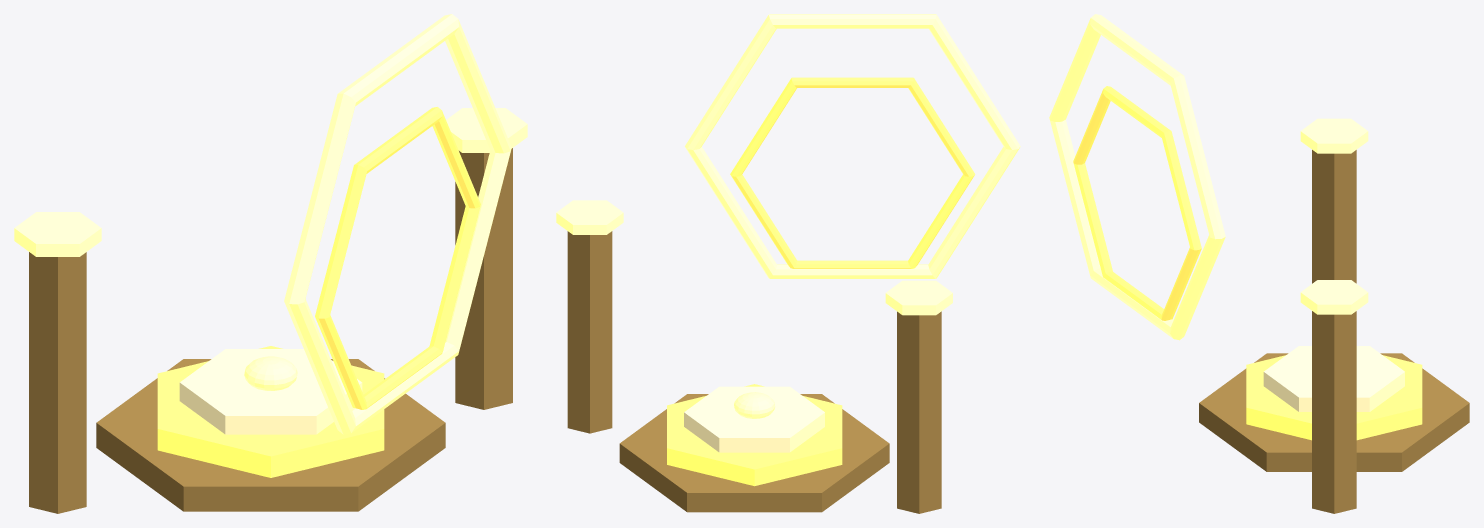
Rendered from ceremony_props.glb.
The picture shows the model from 3 angles, left to right: view 1: azimuth 30°, elevation 25°; view 2: azimuth 150°, elevation 25°; view 3: azimuth 270°, elevation 25°; orthographic projection. The views are drawn at different scales.
Parts seen in each view (by area): view 1: Dais_Tier0, Arch_Outer, Pillar_L, Dais_Tier1, Arch_Inner, Pillar_R, Dais_Tier2, Pillar_L_Cap, Pillar_R_Cap, Honey_Drop; view 2: Arch_Outer, Dais_Tier0, Pillar_R, Pillar_L, Dais_Tier1, Arch_Inner, Dais_Tier2, Pillar_L_Cap, Pillar_R_Cap, Honey_Drop; view 3: Arch_Outer, Dais_Tier0, Pillar_R, Arch_Inner, Pillar_L, Dais_Tier1, Dais_Tier2, Pillar_L_Cap, Pillar_R_Cap.
Part boxes in pixels (box(x1,y1,x2,y2)): Dais_Tier0: box(96, 359, 445, 511); Arch_Outer: box(284, 14, 511, 434); Pillar_L: box(29, 252, 86, 513); Dais_Tier1: box(157, 346, 384, 477); Arch_Inner: box(315, 107, 480, 409); Pillar_R: box(455, 148, 512, 409); Dais_Tier2: box(179, 349, 362, 434); Pillar_L_Cap: box(14, 212, 101, 256); Pillar_R_Cap: box(446, 108, 527, 152); Honey_Drop: box(244, 356, 297, 390); Arch_Outer: box(685, 14, 1020, 278); Dais_Tier0: box(619, 394, 889, 512); Pillar_R: box(567, 231, 612, 433); Pillar_L: box(897, 311, 941, 513); Dais_Tier1: box(667, 384, 842, 486); Arch_Inner: box(730, 77, 975, 268); Dais_Tier2: box(684, 386, 824, 452); Pillar_L_Cap: box(885, 280, 952, 315); Pillar_R_Cap: box(556, 200, 623, 234); Honey_Drop: box(734, 392, 775, 418); Arch_Outer: box(1049, 14, 1225, 340); Dais_Tier0: box(1199, 353, 1469, 471); Pillar_R: box(1312, 311, 1356, 513); Arch_Inner: box(1073, 86, 1201, 320); Pillar_L: box(1312, 150, 1356, 283); Dais_Tier1: box(1246, 355, 1422, 440); Dais_Tier2: box(1263, 346, 1404, 411); Pillar_L_Cap: box(1300, 118, 1368, 153); Pillar_R_Cap: box(1300, 280, 1368, 314).
Bounding box in the file's own units: 7.15 × 6.77 × 6.84.
